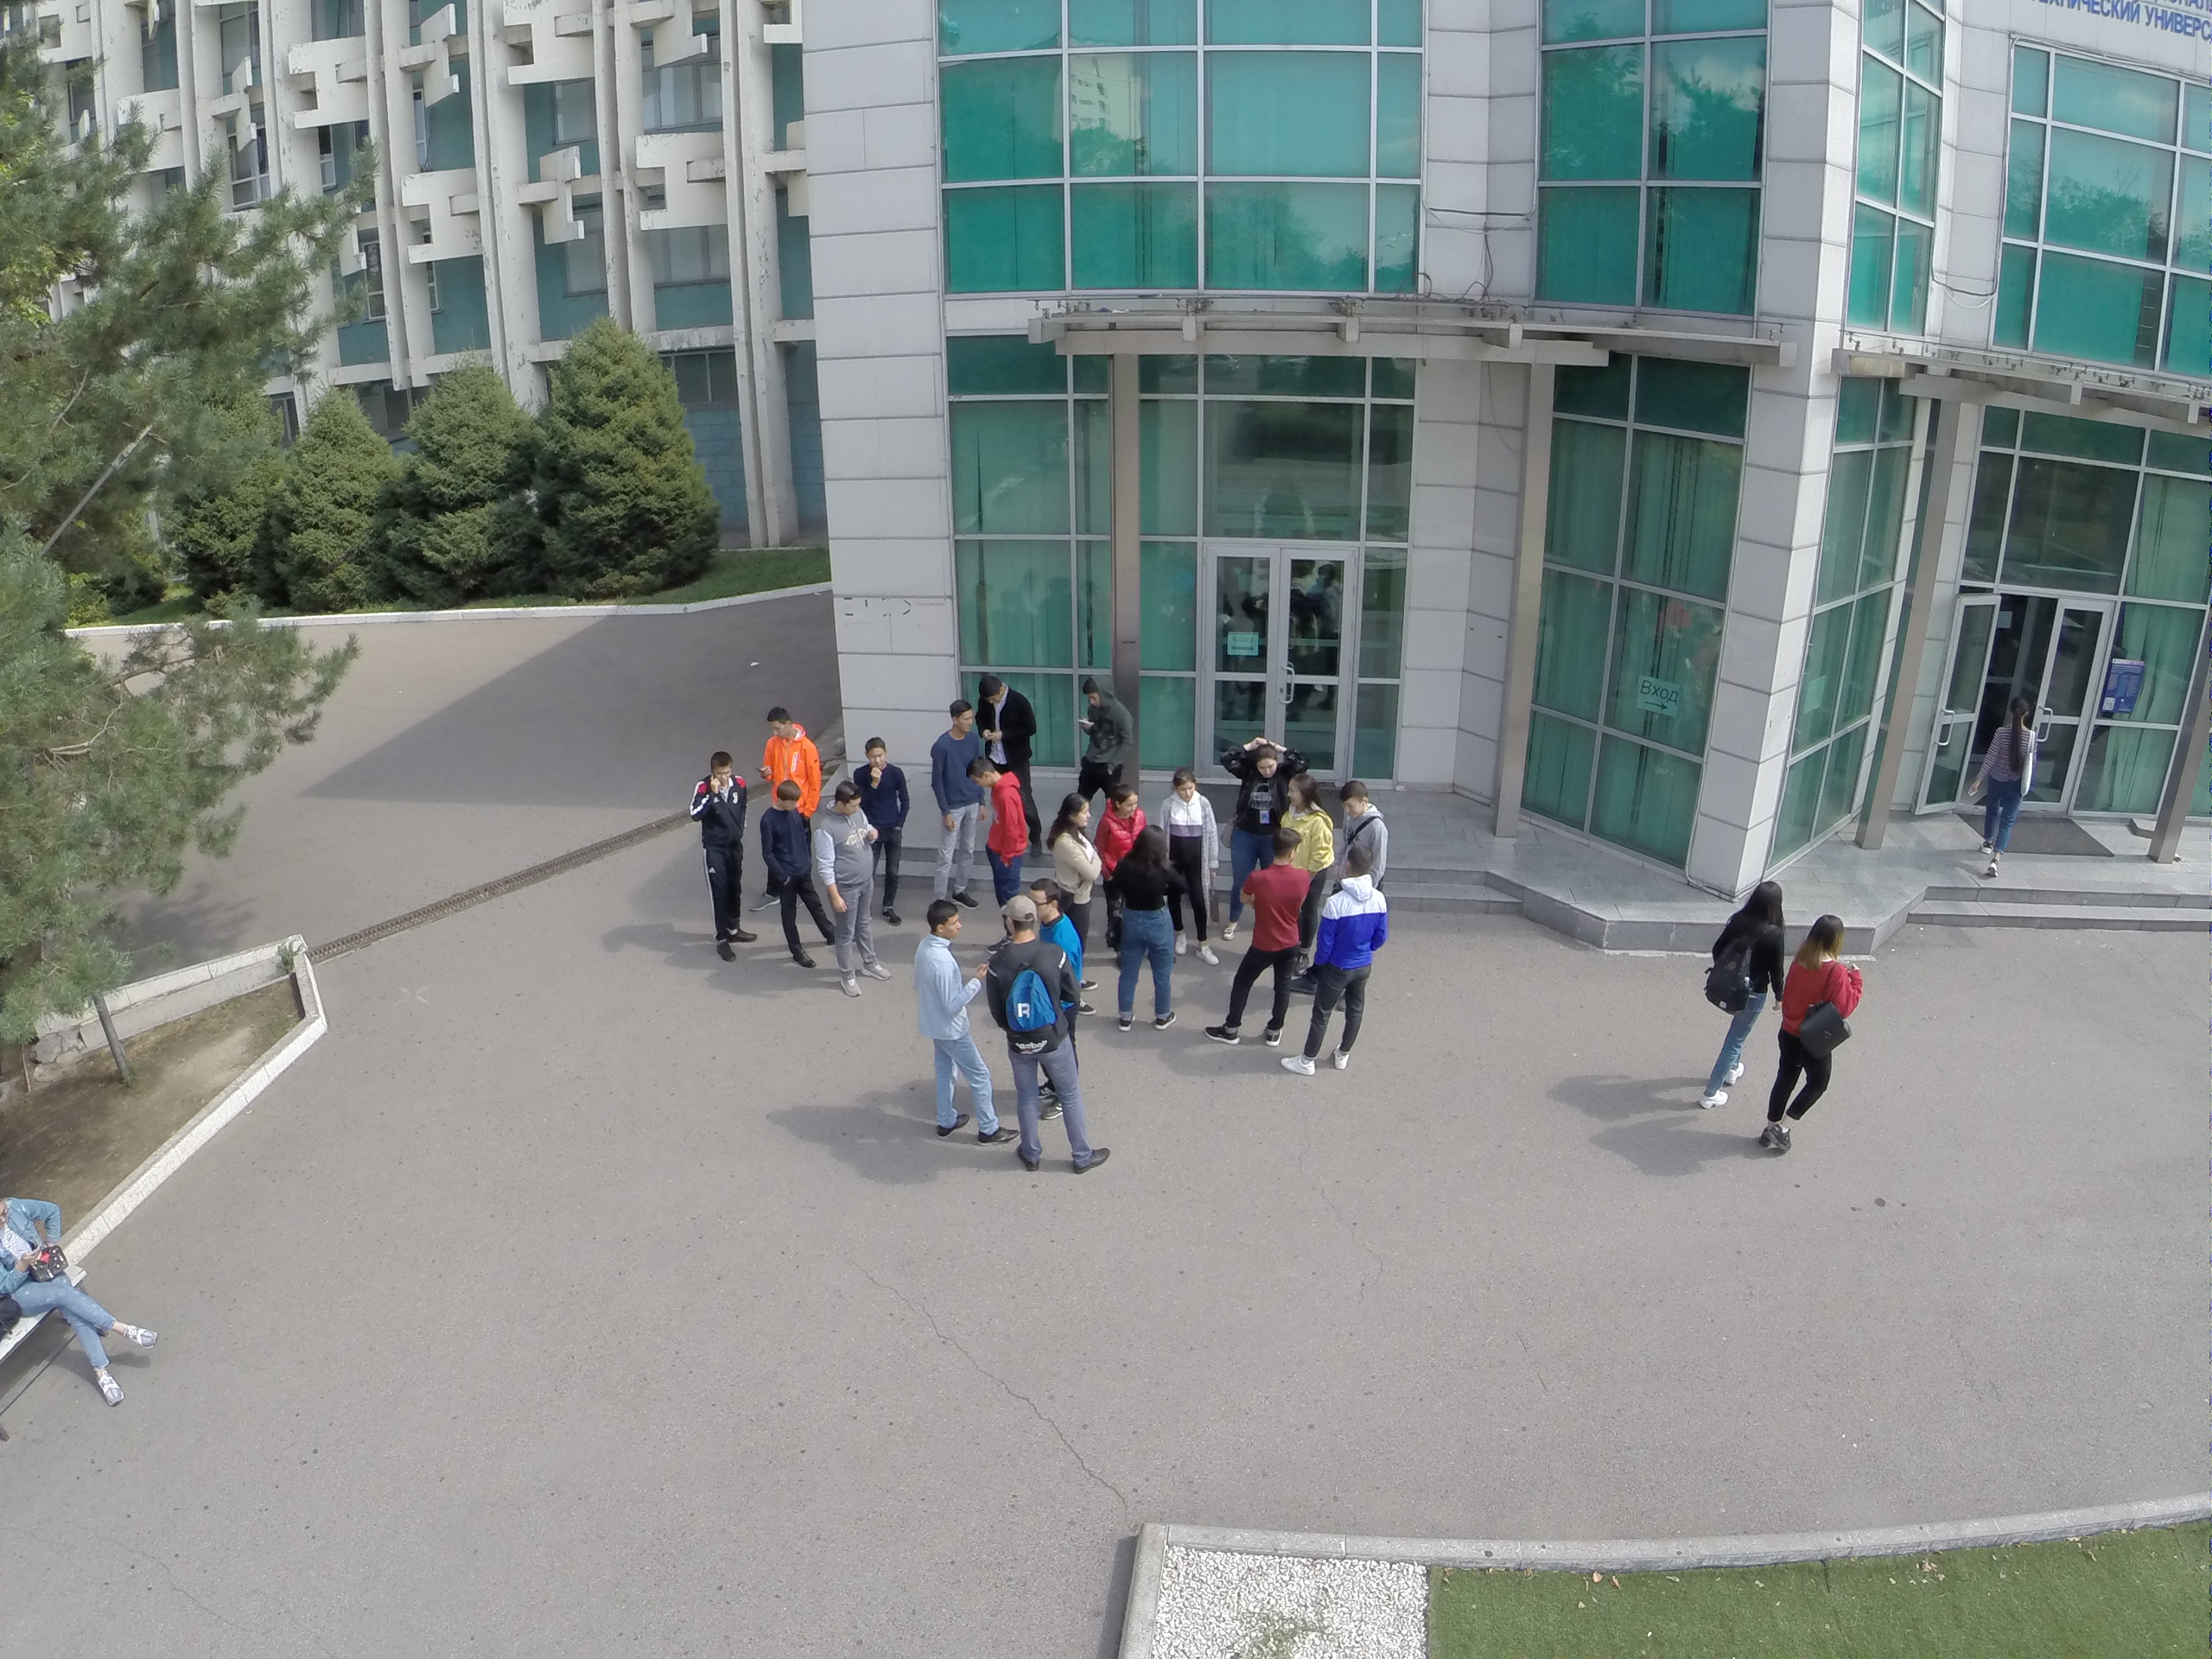person: (995, 887, 1114, 1183), (1, 1194, 158, 1408), (1752, 908, 1863, 1163), (912, 899, 1018, 1155), (1200, 823, 1310, 1050), (1699, 878, 1786, 1113), (1294, 851, 1381, 1077), (813, 779, 886, 998), (1961, 695, 2043, 885), (1109, 823, 1180, 1034), (691, 748, 759, 966), (759, 775, 833, 971), (1161, 769, 1224, 973), (854, 734, 910, 933), (934, 696, 983, 909), (965, 751, 1029, 887), (1049, 779, 1102, 940), (1219, 729, 1284, 842), (1076, 671, 1130, 793), (1338, 772, 1392, 868), (756, 704, 821, 785), (1032, 874, 1082, 973), (979, 676, 1035, 762), (1277, 767, 1334, 849), (1106, 777, 1143, 846)
